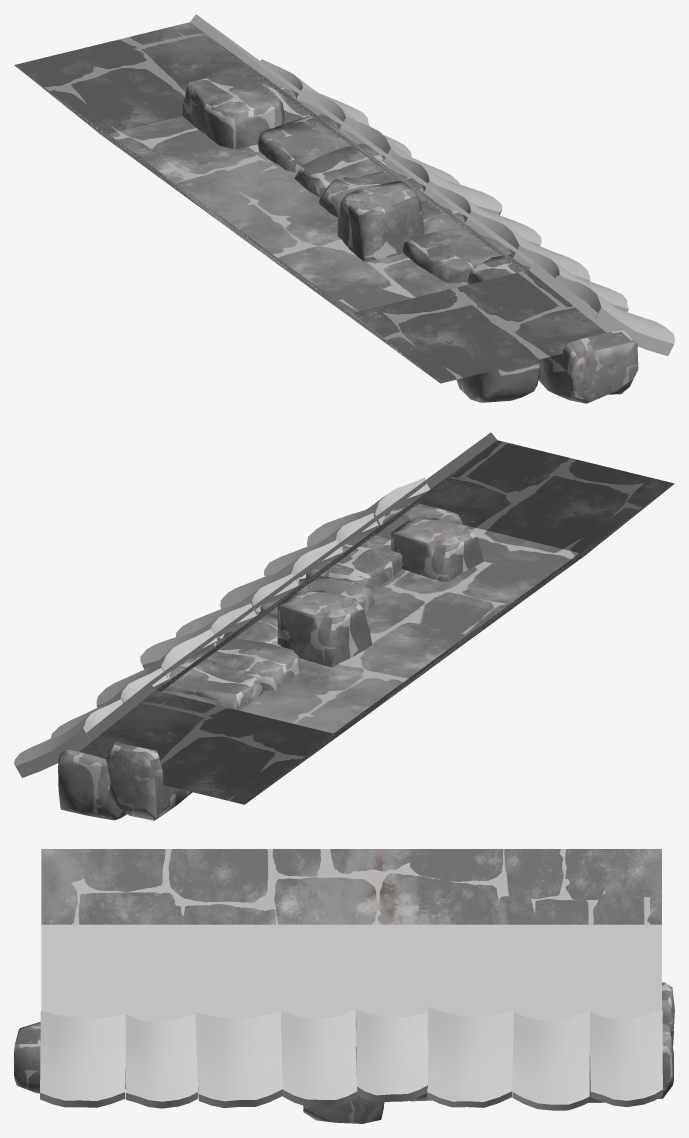
The model's file is Roof_End.fbx.
3 renders of one model, top to bottom at view 1: azimuth 30°, elevation 25°; view 2: azimuth 150°, elevation 25°; view 3: azimuth 270°, elevation 25°, orthographic. The views are drawn at different scales.
Visible parts, largest first — view 1: Wall.017, rock_4.042, Roof_Mid.026; view 2: Wall.017, rock_4.042, Roof_Mid.026; view 3: Roof_Mid.026, Wall.017, rock_4.042.
Part boxes in pixels (box(x1,y1,x2,y2)): Wall.017: box(14, 22, 606, 383); rock_4.042: box(182, 73, 638, 403); Roof_Mid.026: box(190, 14, 674, 355); Wall.017: box(79, 440, 674, 804); rock_4.042: box(58, 503, 483, 820); Roof_Mid.026: box(14, 432, 496, 777); Roof_Mid.026: box(40, 924, 662, 1110); Wall.017: box(41, 849, 661, 924); rock_4.042: box(14, 982, 674, 1123).
Bounding box in the file's own units: 2.86 × 1.42 × 5.33.
